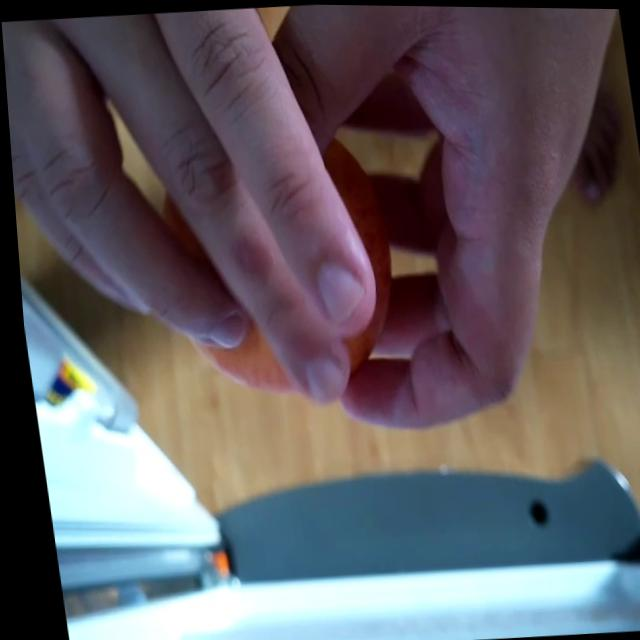apple: (141, 137, 398, 399)
